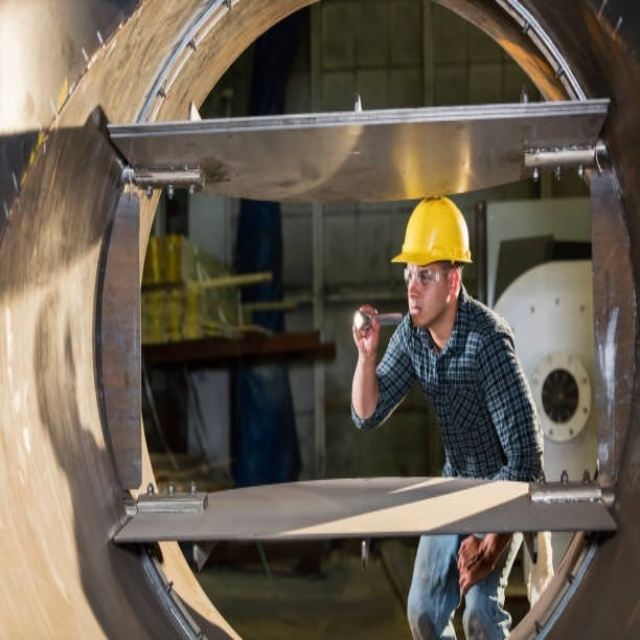Gafas: (403, 266, 453, 288)
Sin_guantes: (457, 532, 510, 593), (348, 301, 384, 356)
Sin_mascara: (408, 292, 430, 323)
